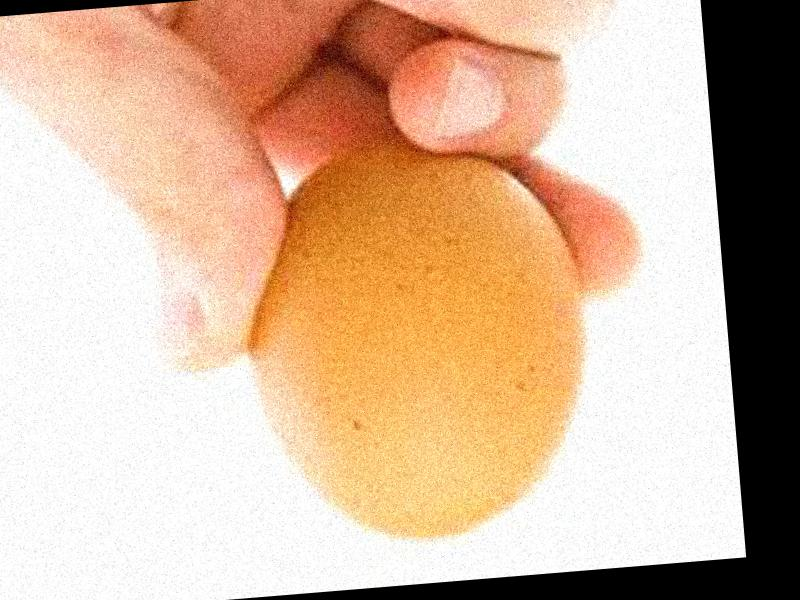Eggs: (234, 137, 602, 555)
